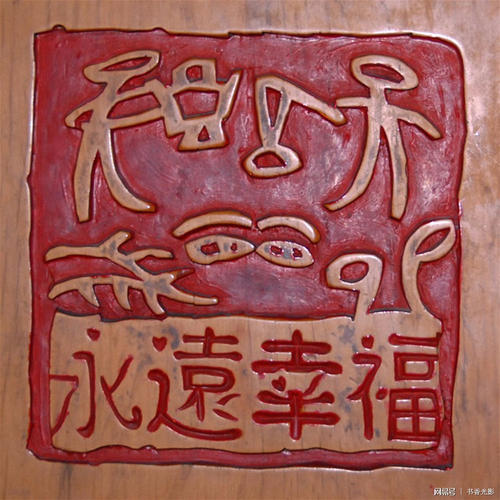chinese: (44, 323, 444, 453)
naxi: (56, 39, 440, 224), (38, 212, 467, 318)
